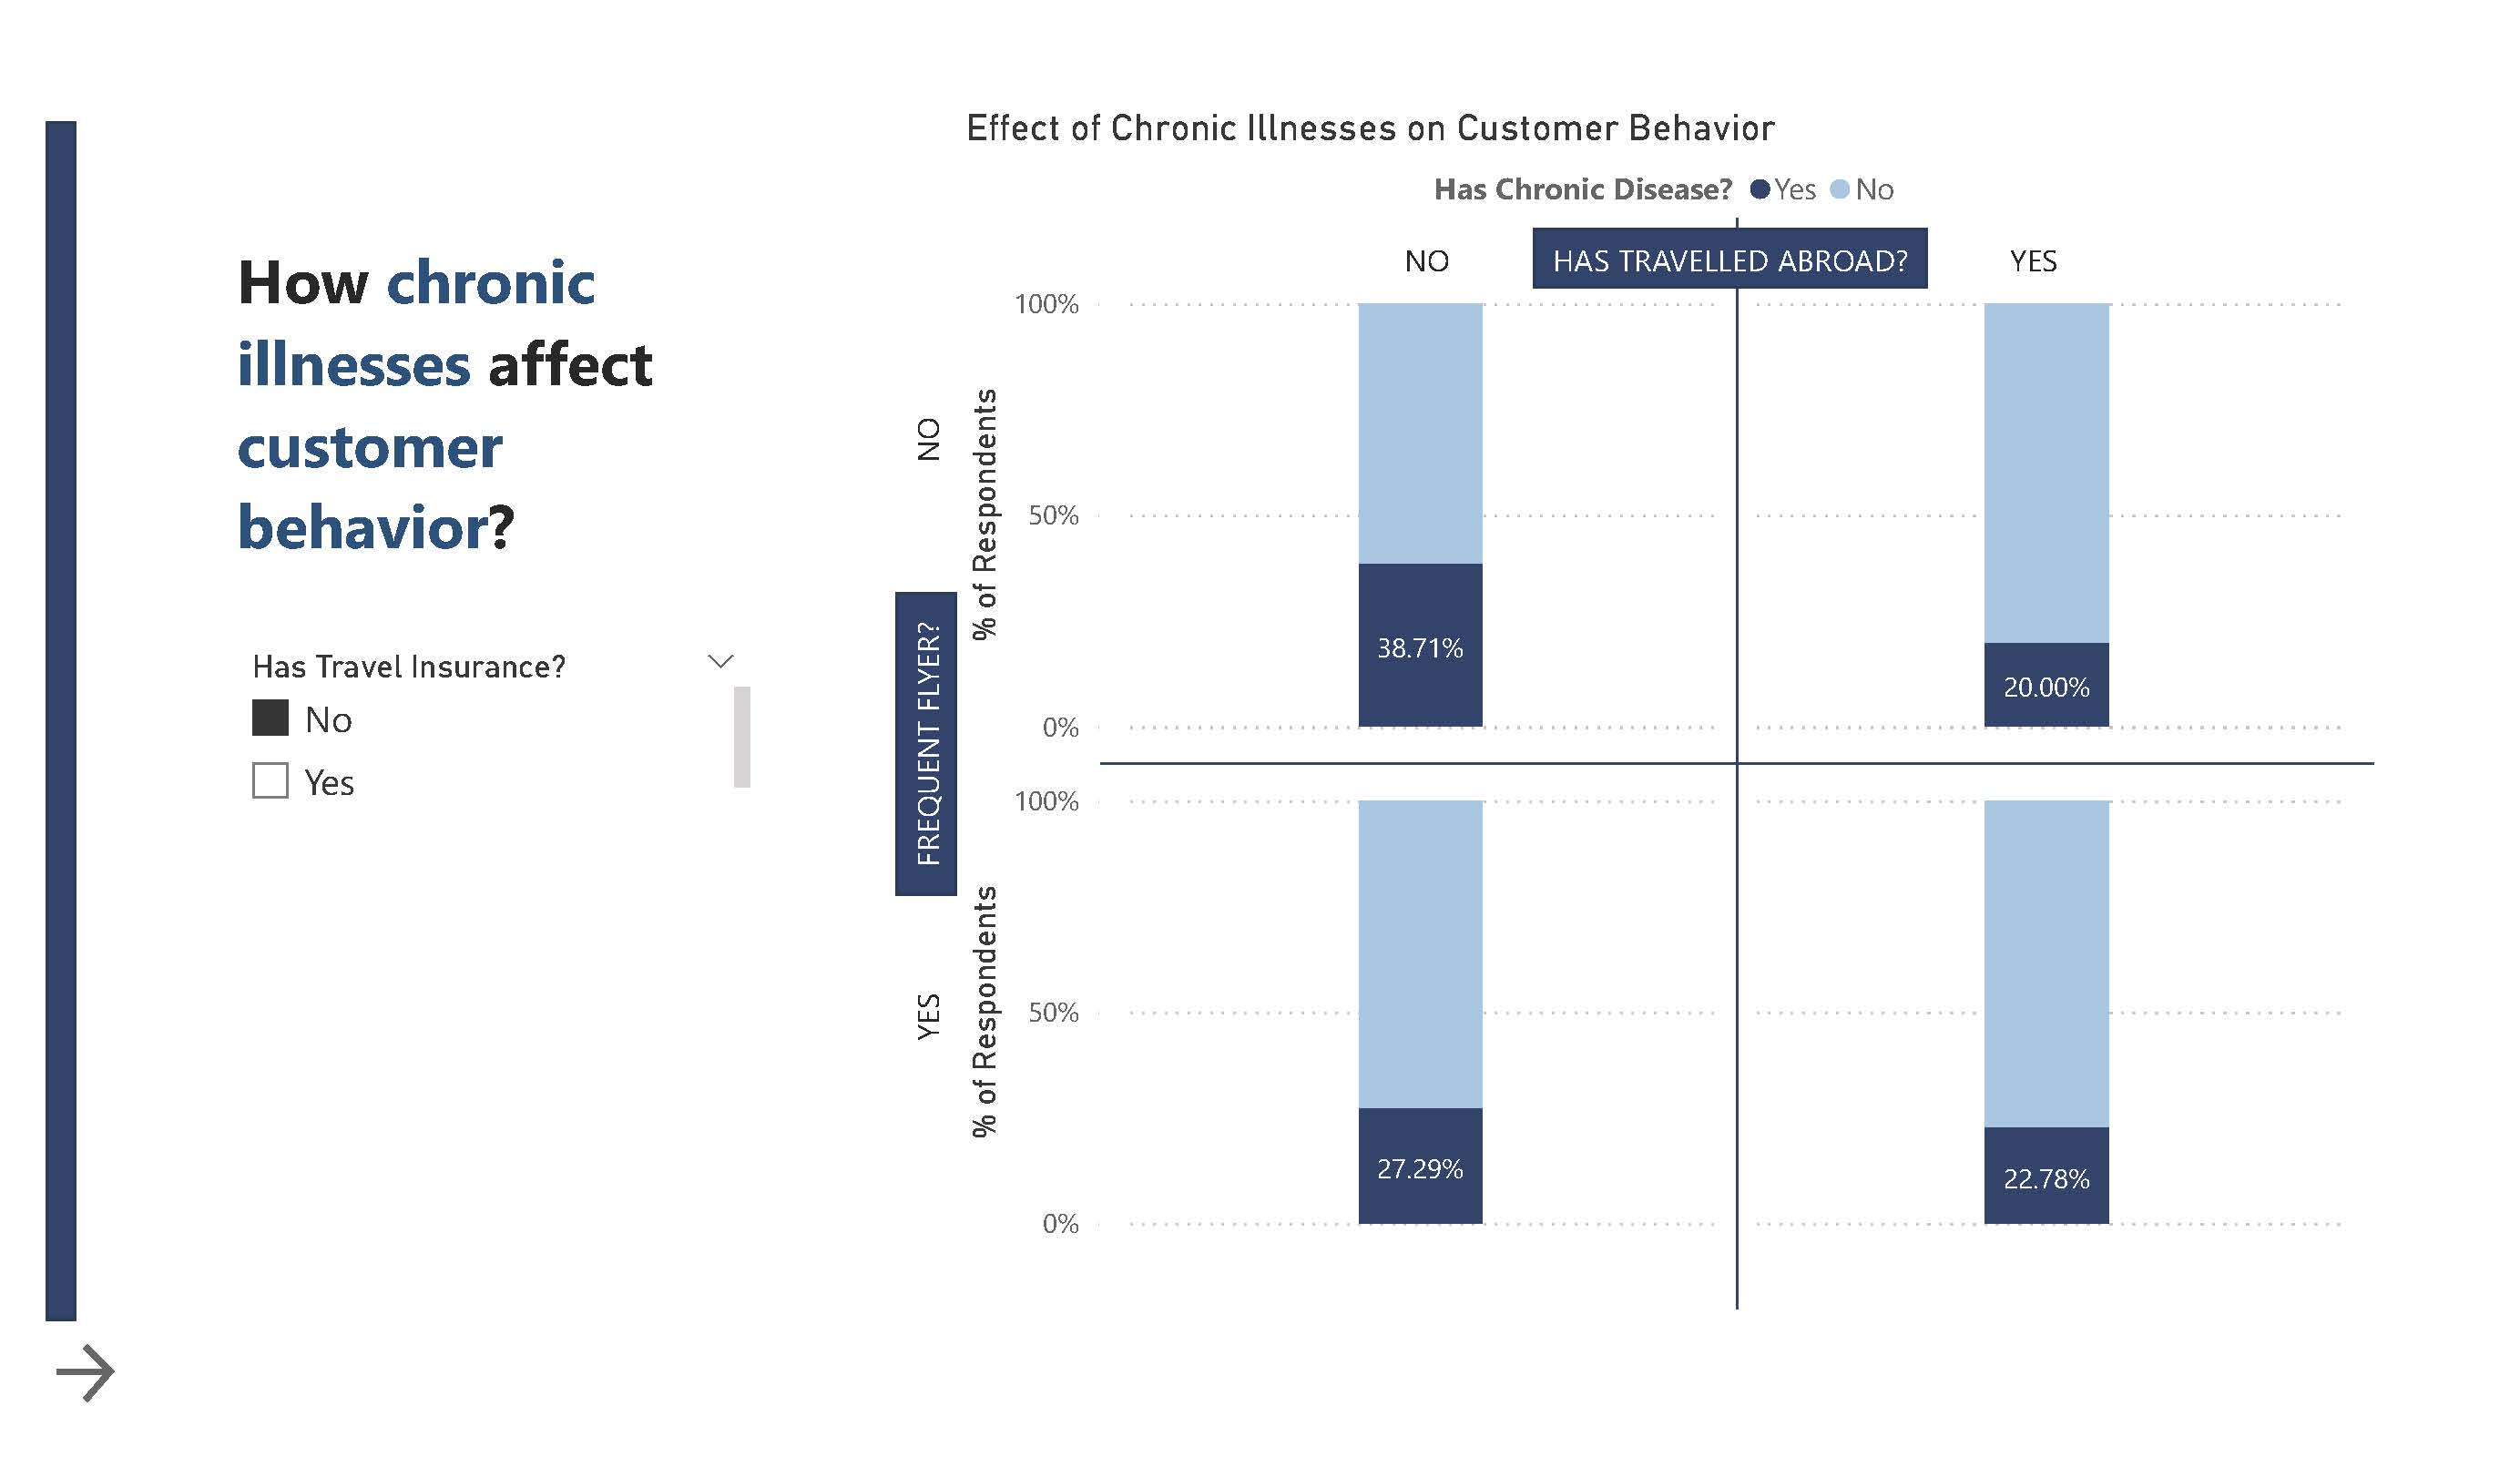

The dashboard page shown, as its layout file describes it:
{"tool":"powerbi","page":{"name":"Chronic Illnesses","canvas":[1280,720],"ordinal":6},"visuals":[{"type":"hundredPercentStackedColumnChart","title":"Effect of Chronic Illnesses on Customer Behavior","fields":{"Y":["travel_insurance.COUNT"],"Series":["travel_insurance.ChronicDiseases"],"Rows":["travel_insurance.EverTravelledAbroad","travel_insurance.FrequentFlyer"]},"box":[480,32,752,640],"z":0},{"type":"shape","box":[0,40,16,632],"z":1000},{"type":"textbox","box":[96,96,288,192],"z":2000},{"type":"slicer","fields":{"Values":["travel_insurance.TravelInsurance"]},"box":[96,312,280,96],"z":3000},{"type":"shape","box":[448,288,32,160],"z":4000},{"type":"shape","box":[448,464,32,96],"z":5000},{"type":"shape","box":[448,160,32,96],"z":6000},{"type":"shape","box":[784,96,208,32],"z":7000},{"type":"shape","box":[1024,96,48,32],"z":8000},{"type":"shape","box":[704,96,48,32],"z":9000},{"type":"actionButton","box":[0,680,48,40],"z":9001}]}

Visuals, with their boxes on the page's 1280x720 design canvas (x1, y1, x2, y2). These are canvas units, not pixel positions in the 2520x1457 screenshot, which may show the page scaled, cropped or inside an application window:
"Effect of Chronic Illnesses on Customer Behavior" hundredPercentStackedColumnChart: (left=480, top=32, right=1232, bottom=672)
shape: (left=0, top=40, right=16, bottom=672)
textbox: (left=96, top=96, right=384, bottom=288)
slicer - travel_insurance.TravelInsurance: (left=96, top=312, right=376, bottom=408)
shape: (left=448, top=288, right=480, bottom=448)
shape: (left=448, top=464, right=480, bottom=560)
shape: (left=448, top=160, right=480, bottom=256)
shape: (left=784, top=96, right=992, bottom=128)
shape: (left=1024, top=96, right=1072, bottom=128)
shape: (left=704, top=96, right=752, bottom=128)
actionButton: (left=0, top=680, right=48, bottom=720)
